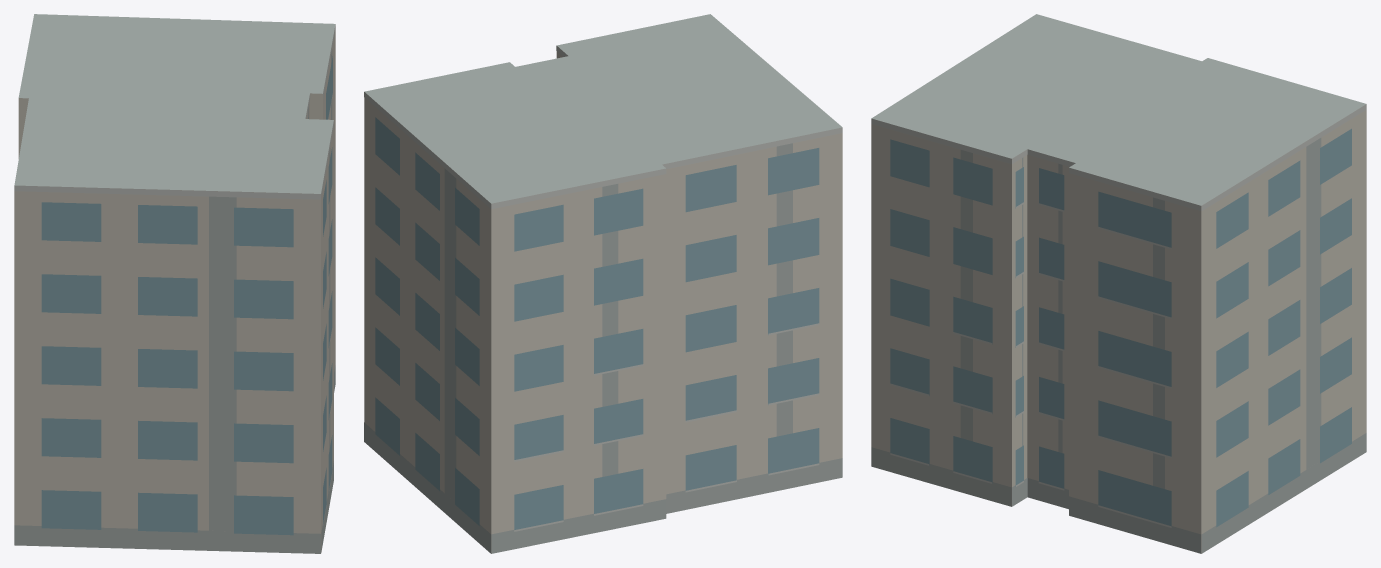
The model's file is survey-upis-32966644.glb.
The picture shows the model from 3 angles, left to right: view 1: azimuth 30°, elevation 25°; view 2: azimuth 150°, elevation 25°; view 3: azimuth 270°, elevation 25°; orthographic projection. The views are drawn at different scales.
Parts seen in each view (by area): view 1: survey-upis-32966644.tmp; view 2: survey-upis-32966644.tmp; view 3: survey-upis-32966644.tmp.
Boxes of the visible parts, x1,y1,x2,y2 form: survey-upis-32966644.tmp: [14, 14, 335, 553]; survey-upis-32966644.tmp: [364, 14, 842, 553]; survey-upis-32966644.tmp: [871, 14, 1366, 553].
Size of the model in its own units: 18.14 by 15.34 by 19.8.
